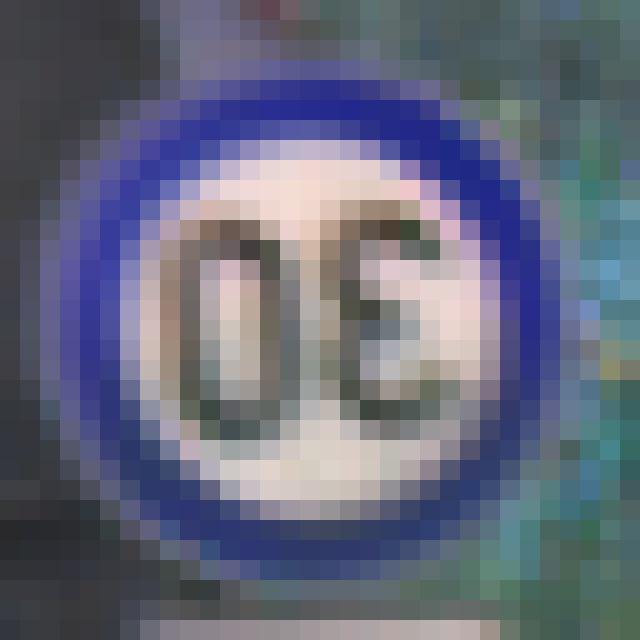SPEED LIMIT 30: (76, 104, 536, 550)
